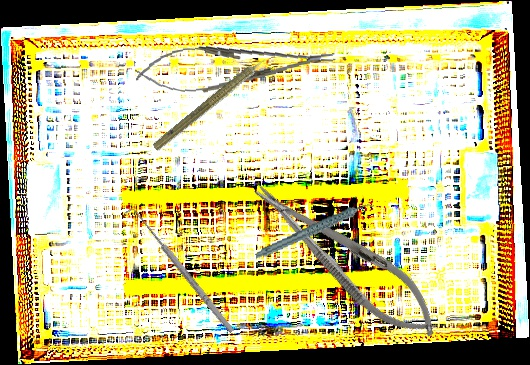Handpiece: (150, 47, 280, 156), (249, 202, 381, 260)
Hook Surgical: (123, 203, 237, 339)
Needle Holder: (239, 165, 454, 354), (133, 34, 338, 99)
